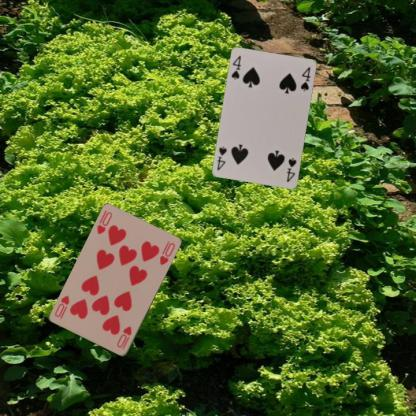10h: (115, 324, 134, 350), (94, 210, 113, 236)
4s: (228, 53, 243, 81), (284, 155, 298, 184)
